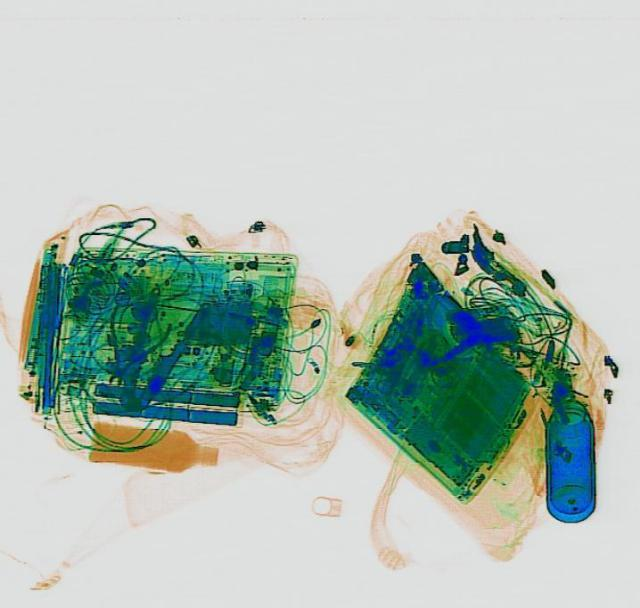Pliers: (98, 281, 212, 419)
